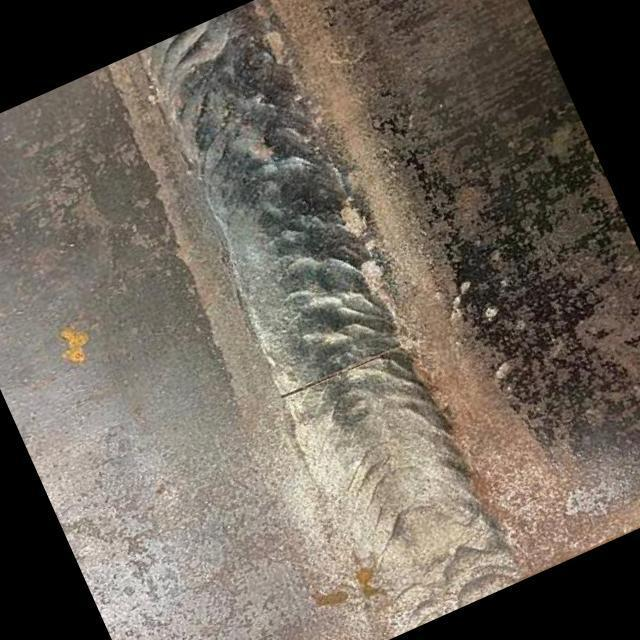defect: (268, 346, 402, 402)
